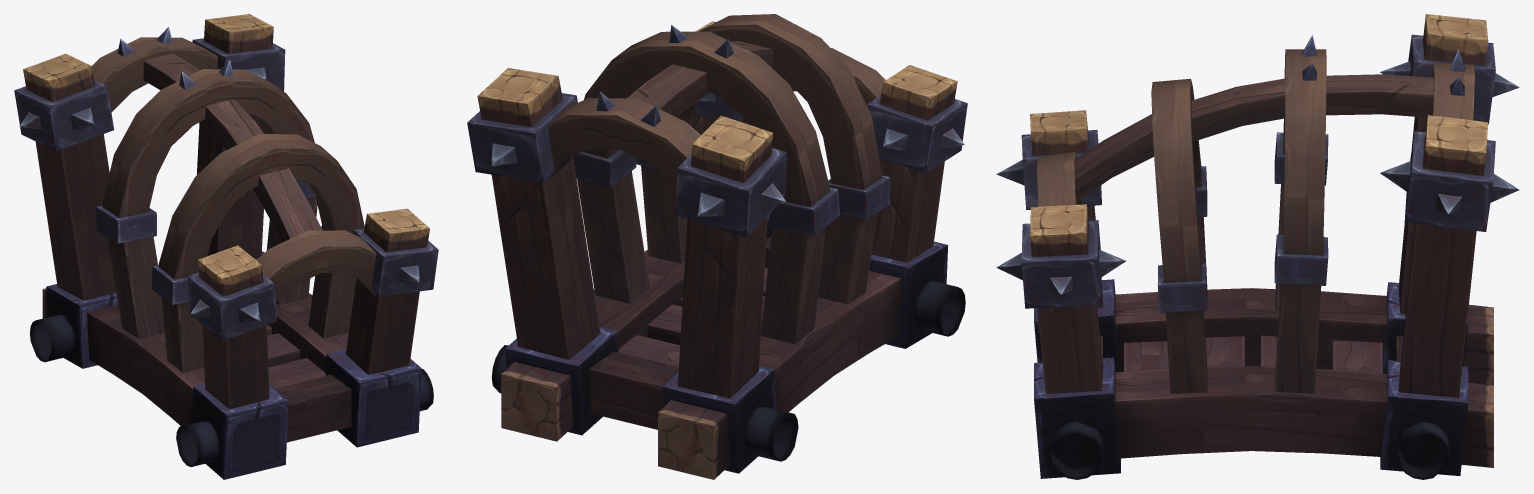
The model's file is caravan_base.fbx.
The picture shows the model from 3 angles, left to right: view 1: azimuth 30°, elevation 25°; view 2: azimuth 150°, elevation 25°; view 3: azimuth 270°, elevation 25°; orthographic projection. The views are drawn at different scales.
Visible parts, largest first — view 1: caravan_base; view 2: caravan_base; view 3: caravan_base.
Boxes of the visible parts, box(x1,y1,x2,y2) form: caravan_base: box(14, 14, 438, 479); caravan_base: box(467, 14, 967, 479); caravan_base: box(996, 14, 1519, 479).
Bounding box in the file's own units: 1.88 × 2.09 × 2.67.
